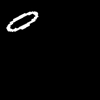chain: (7, 12, 37, 31)
